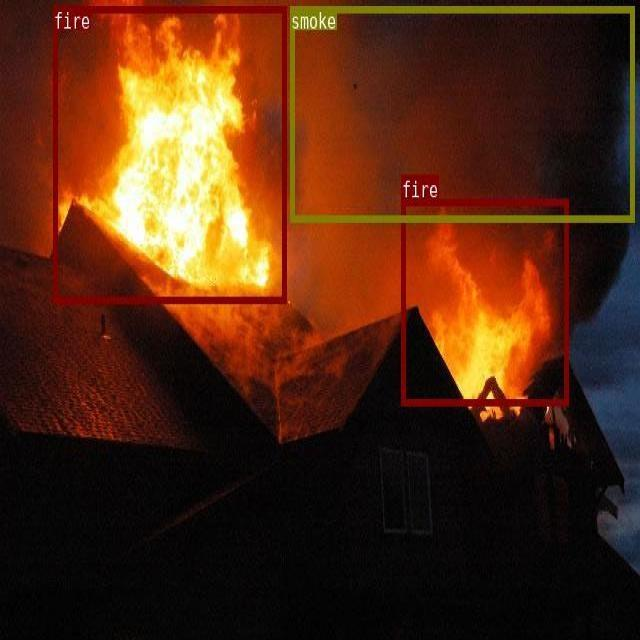fire: (52, 6, 286, 303), (401, 198, 568, 405)
smoke: (290, 5, 634, 220)
